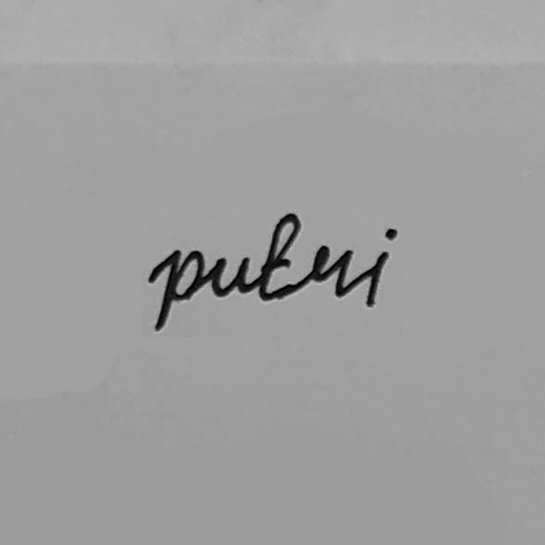i: (361, 225, 400, 311)
p: (146, 246, 207, 333)
r: (305, 242, 356, 302)
t: (256, 209, 303, 303)
u: (208, 253, 255, 300)
